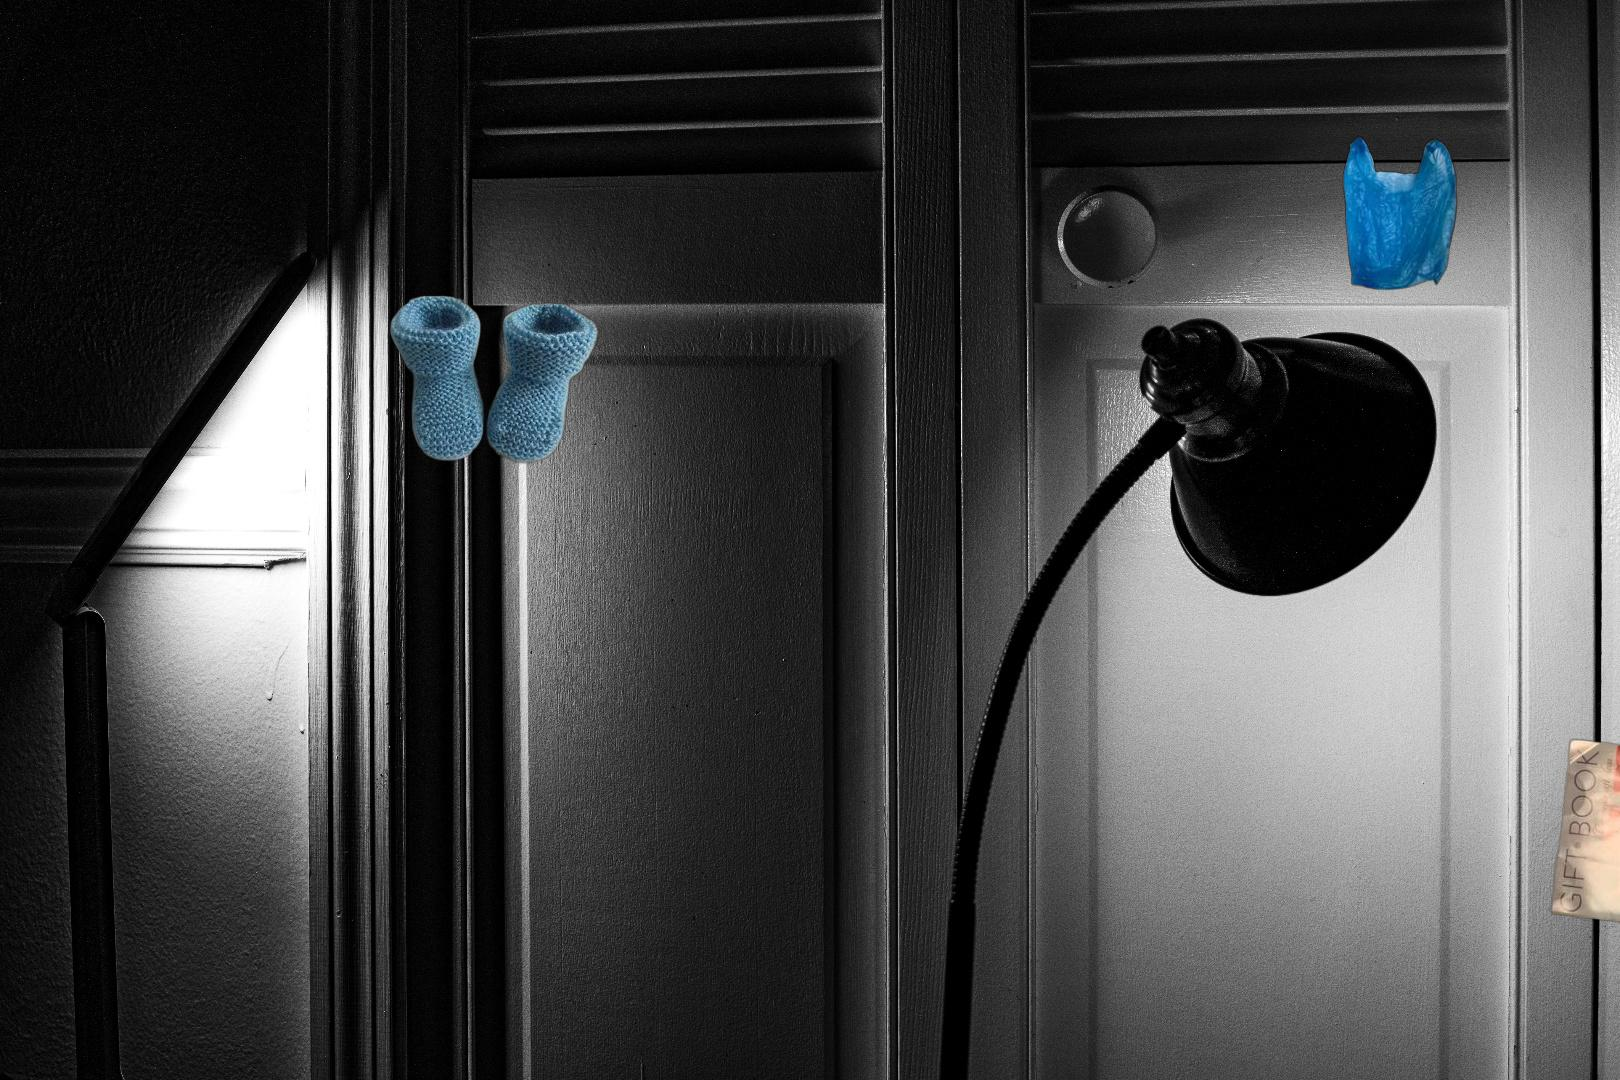paper: (1546, 738, 1620, 953)
plastic-bag: (1340, 133, 1460, 293)
shoes: (387, 293, 606, 466)
